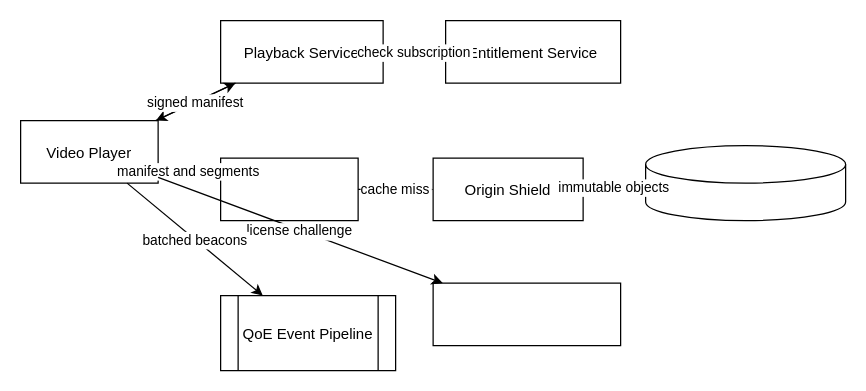
Image size: 866x391. Some labels were removed from this diagram. The box of each missing label's shape, as (x1, y1, x2, y2) in pixels:
DRM License Service: (432, 282, 621, 346)
Global CDN: (219, 157, 358, 221)
Multi-region Media Store: (644, 144, 846, 221)
